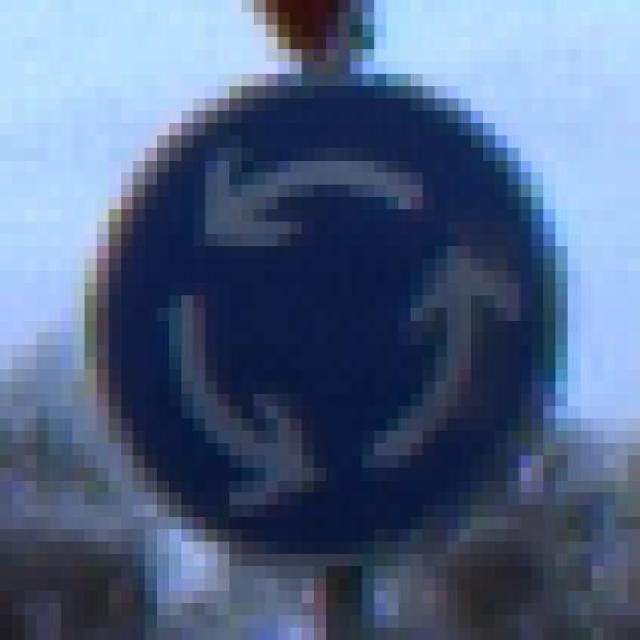Round-About: (60, 61, 592, 578)
